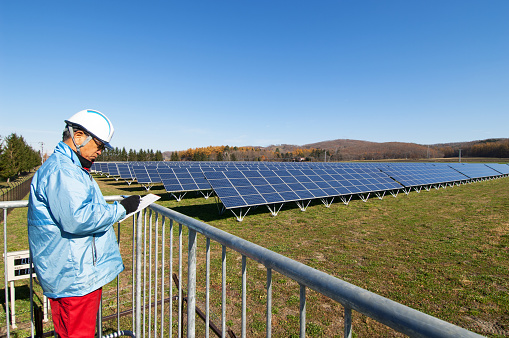em pe: (17, 107, 173, 338)
